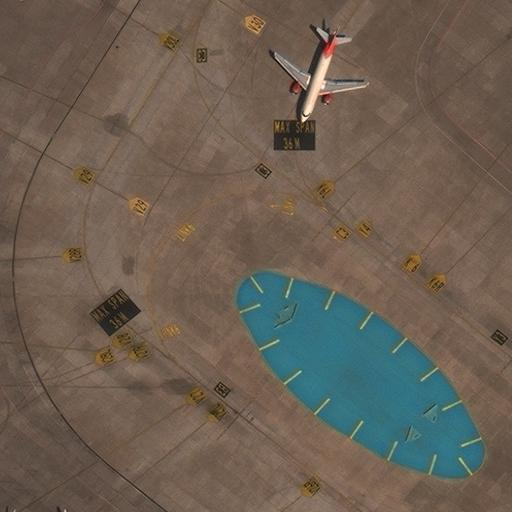Medium Civil Transport: (274, 29, 365, 122)
